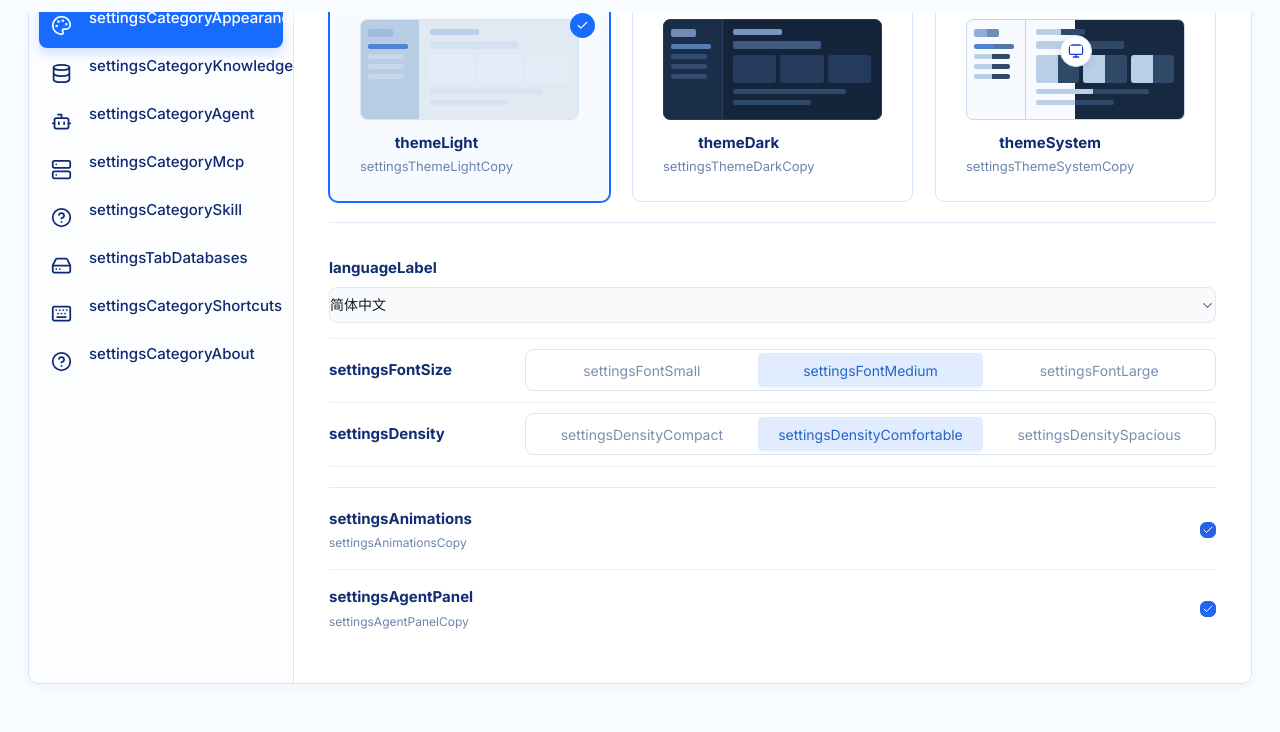
Test case: SettingsPage › shows the database panel only on the databases tab
(page scrolled)
Expected: the heading "settingsDatabaseTitle" is not shown
What coordinates should you click on to do the following:
click the tab "settingsTabDatabases"
I would click on:
 (161, 266)
Its box is [39,243,283,288].
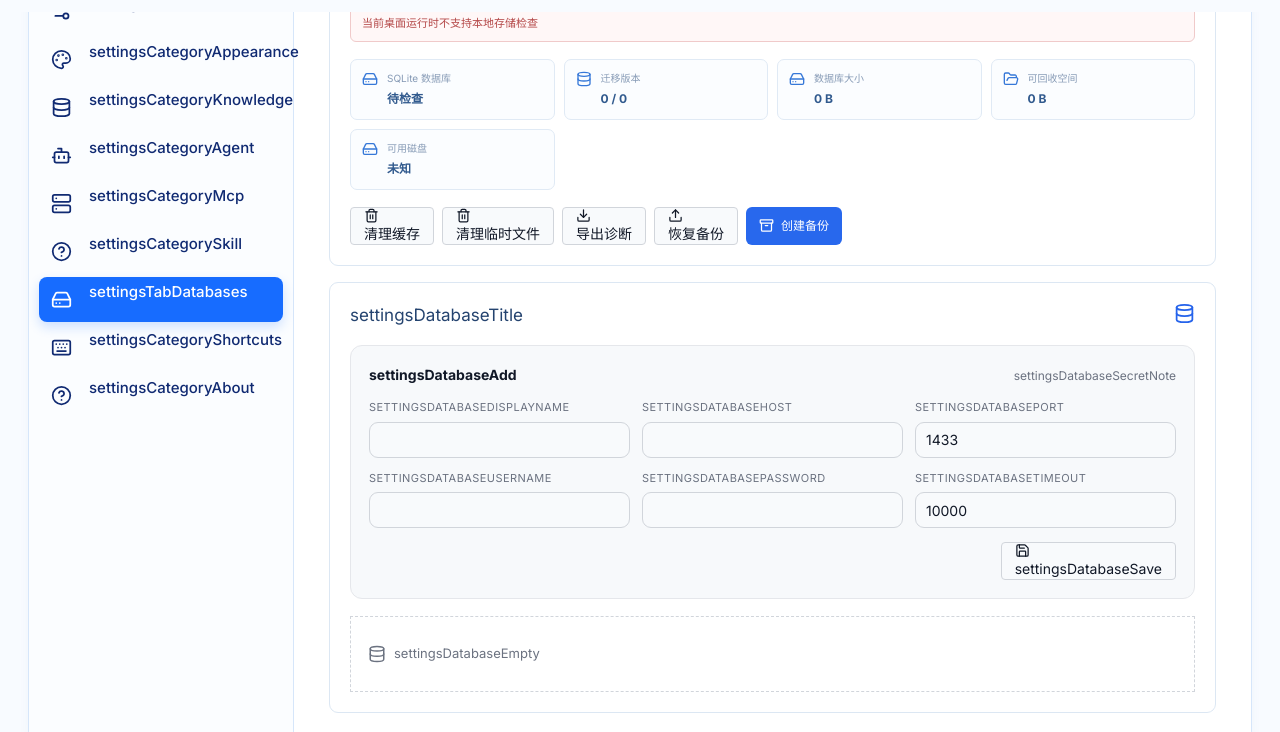
Result: the heading "settingsDatabaseTitle" is shown at [350,303,523,328]
